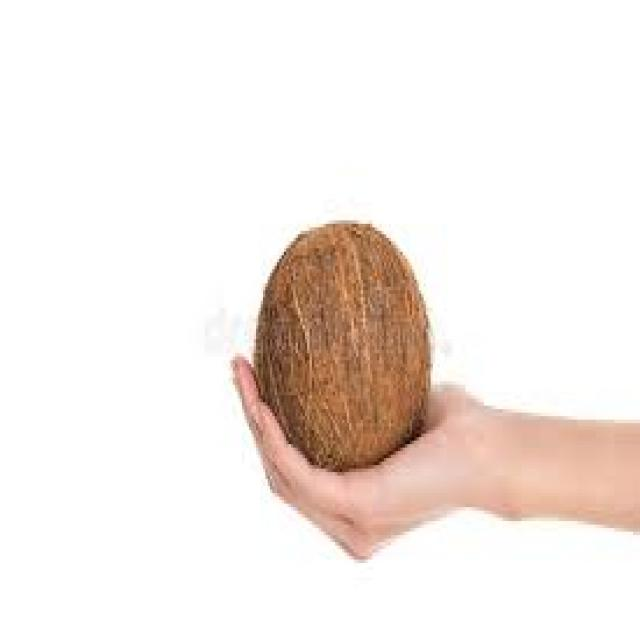coconut: (247, 217, 435, 479)
